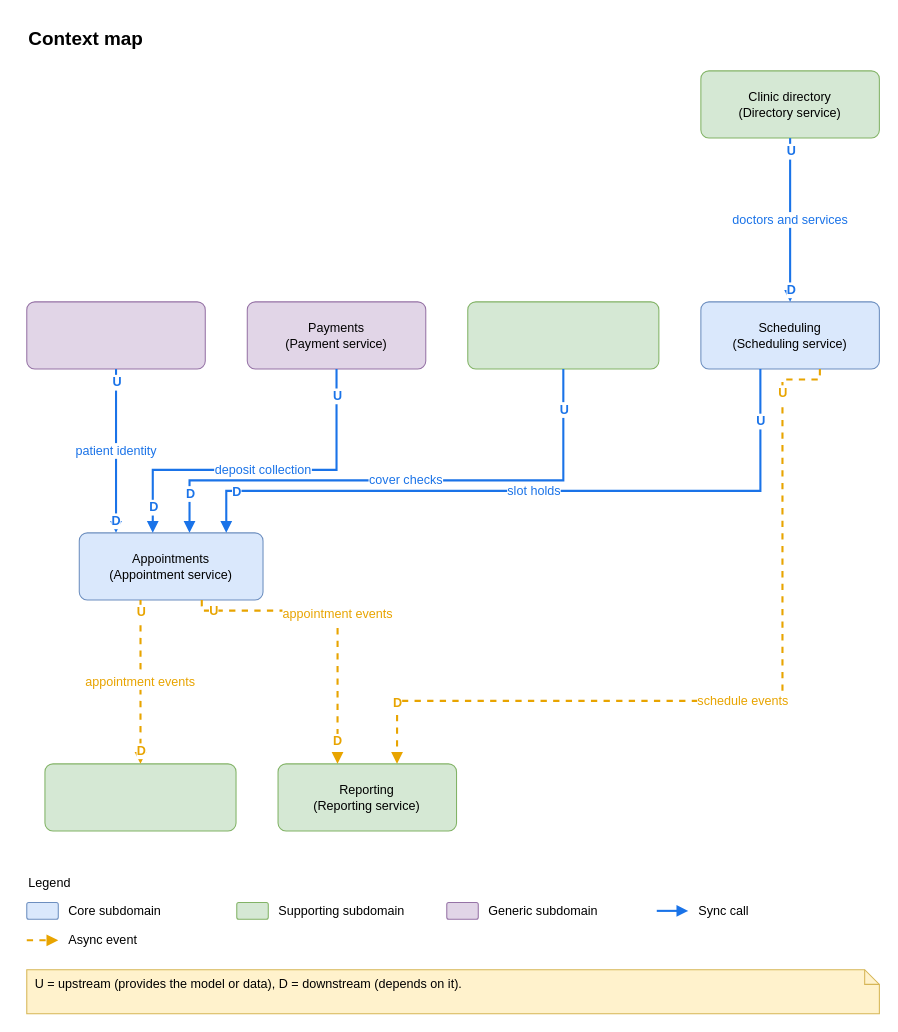
Image size: 898x1032. Some labels were removed from this diagram. Here are the shapes that lost their labels. From the top down, the centre of each, then its label:
(x=115, y=335): Identity (Identity service)
(x=563, y=335): Insurance verification (Insurance service)
(x=140, y=797): Notifications (Notification service)
